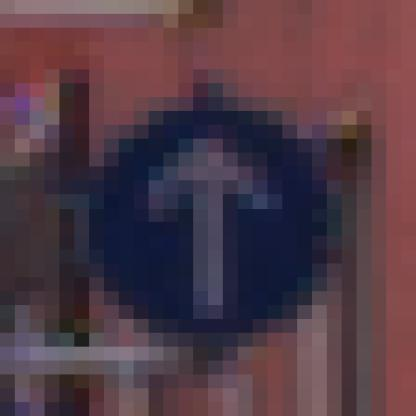AheadOnly: (75, 84, 343, 334)
